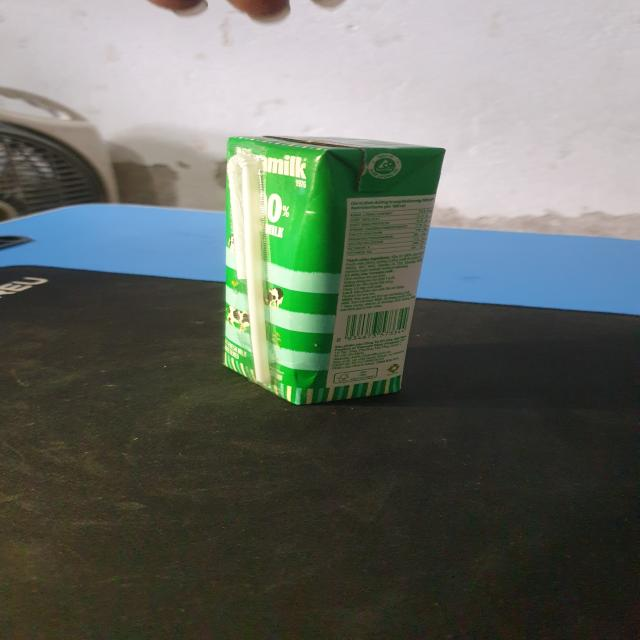Vina: (221, 136, 447, 403)
